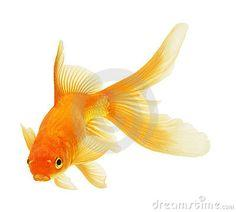goldfish: (18, 64, 173, 189)
